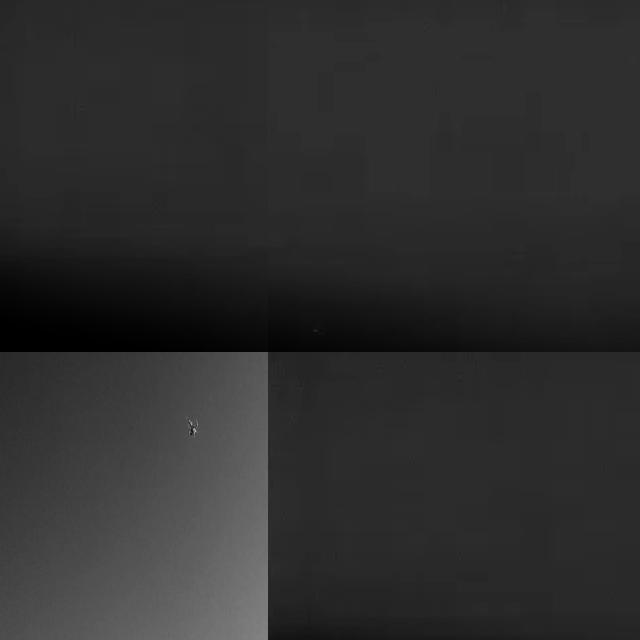0: (299, 317, 335, 352)
drone: (182, 409, 200, 442)
